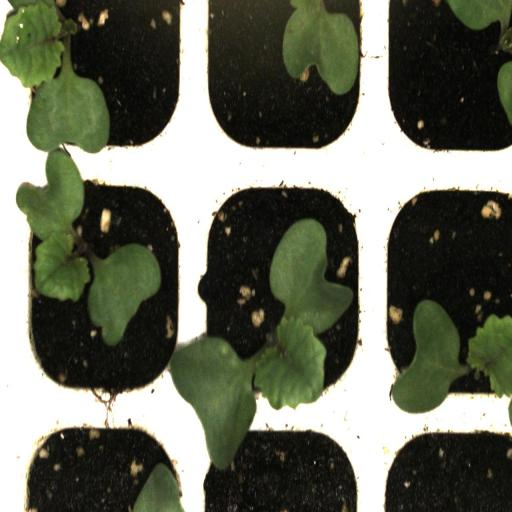Folha: (392, 299, 512, 414), (245, 0, 359, 96), (446, 0, 512, 50), (133, 463, 184, 512)
Germinacao: (191, 167, 375, 414), (12, 159, 192, 411), (17, 1, 192, 162)
